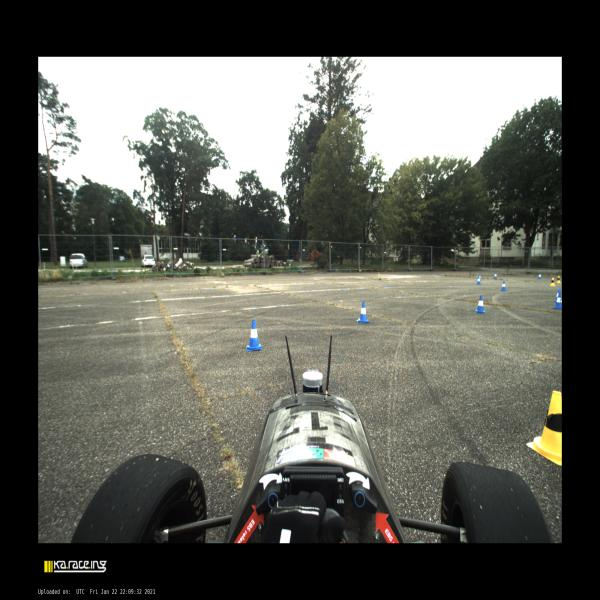blue_cone: (246, 320, 262, 351), (356, 301, 370, 323), (475, 295, 485, 314), (552, 293, 562, 309), (552, 288, 561, 303), (500, 280, 507, 292), (476, 274, 482, 282), (476, 276, 481, 284), (538, 273, 542, 279), (494, 272, 497, 279)
yellow_cone: (526, 390, 562, 466), (550, 277, 555, 287), (556, 275, 561, 284)
